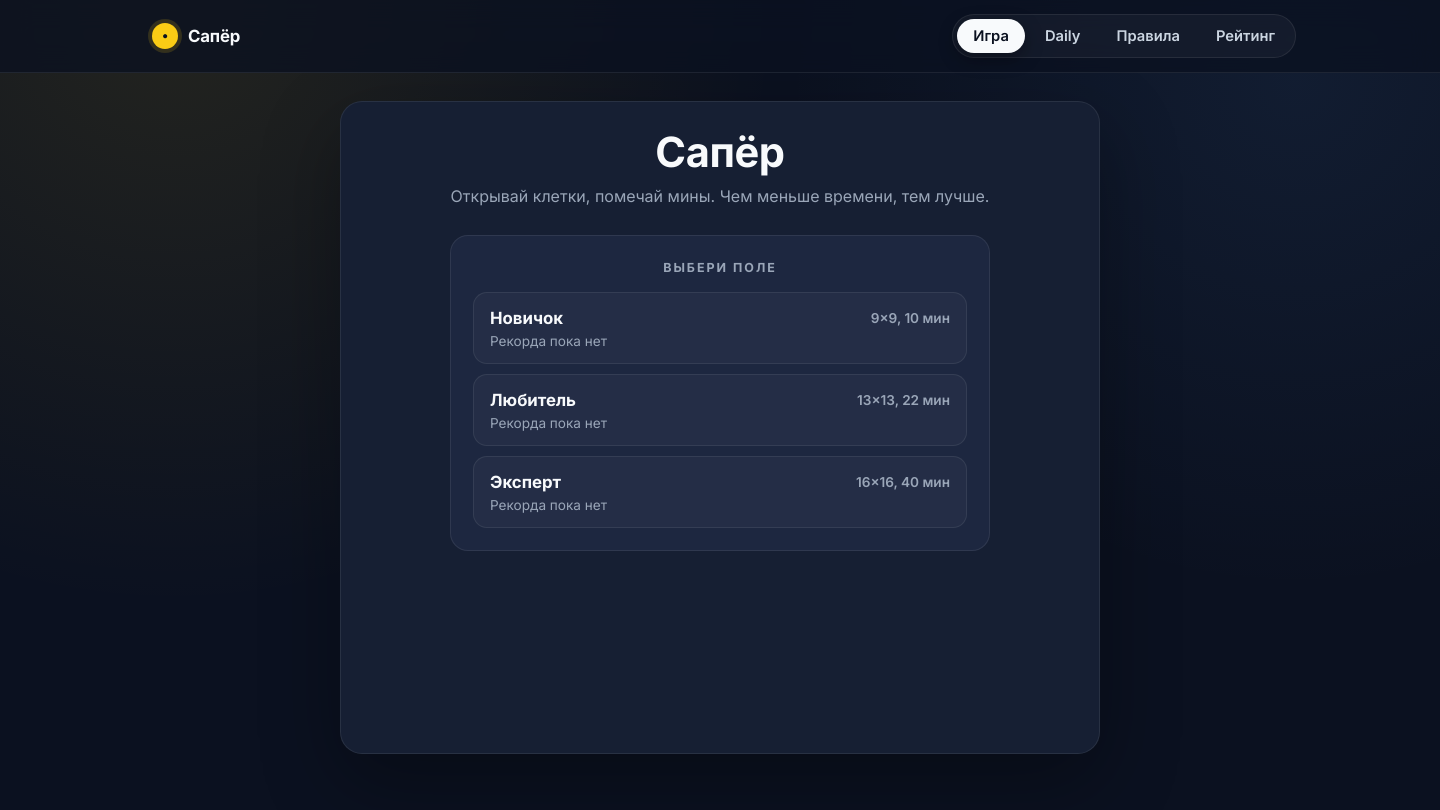
Test case: navigates to the rules page without showing the game UI
The width and height of the screenshot is (1440, 810).
Click the link "Правила" at (1148, 36), box top-left (1116, 27), bottom-right (1180, 45)
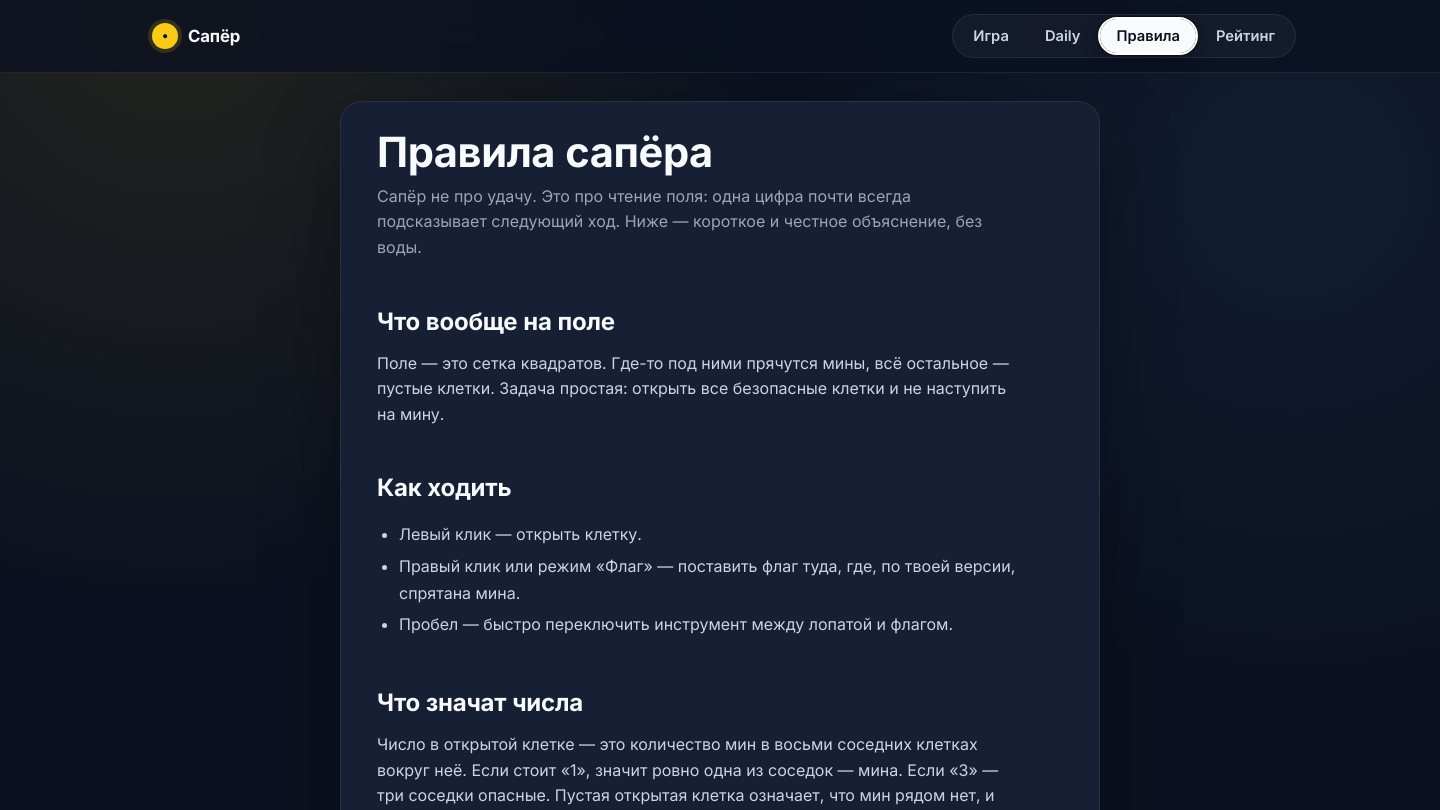
Expected: the button "новичок" is not shown
Expected: the heading "Правила сапёра" is shown, top-left (377, 126), bottom-right (713, 179)
